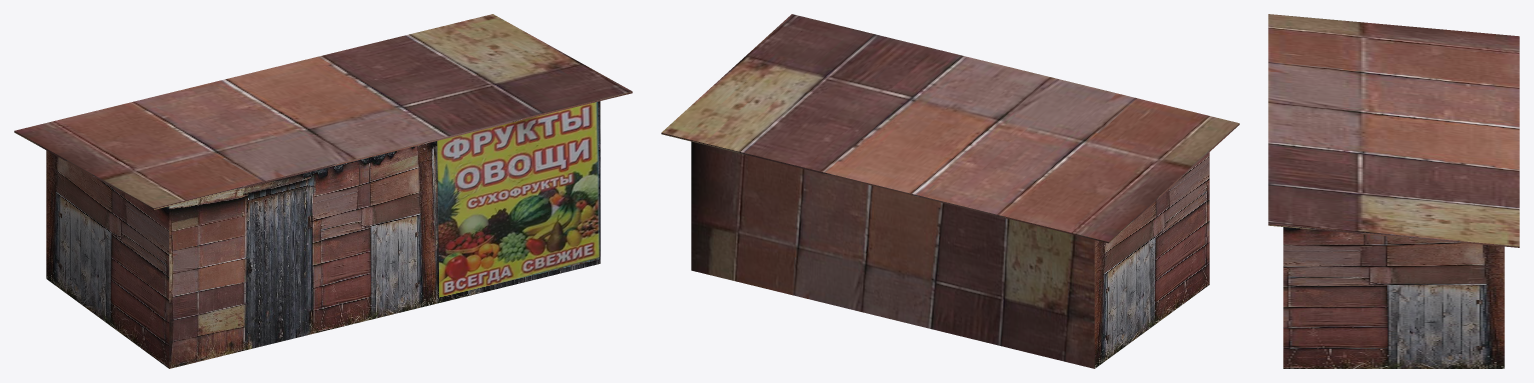
File: d_saray_5.FBX
The picture shows the model from 3 angles, left to right: view 1: azimuth 30°, elevation 25°; view 2: azimuth 150°, elevation 25°; view 3: azimuth 270°, elevation 25°; orthographic projection. The views are drawn at different scales.
Parts seen in each view (by area): view 1: d_saray_5; view 2: d_saray_5; view 3: d_saray_5.
Part boxes in pixels (x1=…): d_saray_5: x1=14, y1=14, x2=632, y2=368; d_saray_5: x1=661, y1=14, x2=1239, y2=368; d_saray_5: x1=1268, y1=14, x2=1519, y2=368.
Bounding box in the file's own units: 6.46 × 3.27 × 2.22.
